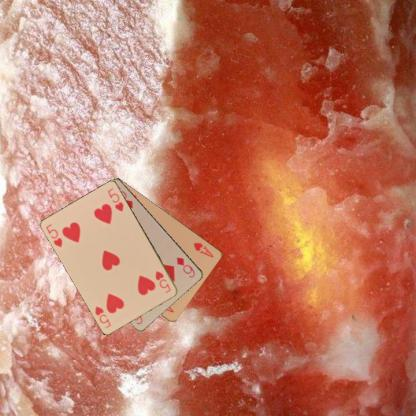5h: (44, 221, 63, 249), (153, 268, 172, 295)
6d: (174, 255, 196, 279)
Ah: (191, 240, 215, 259)
